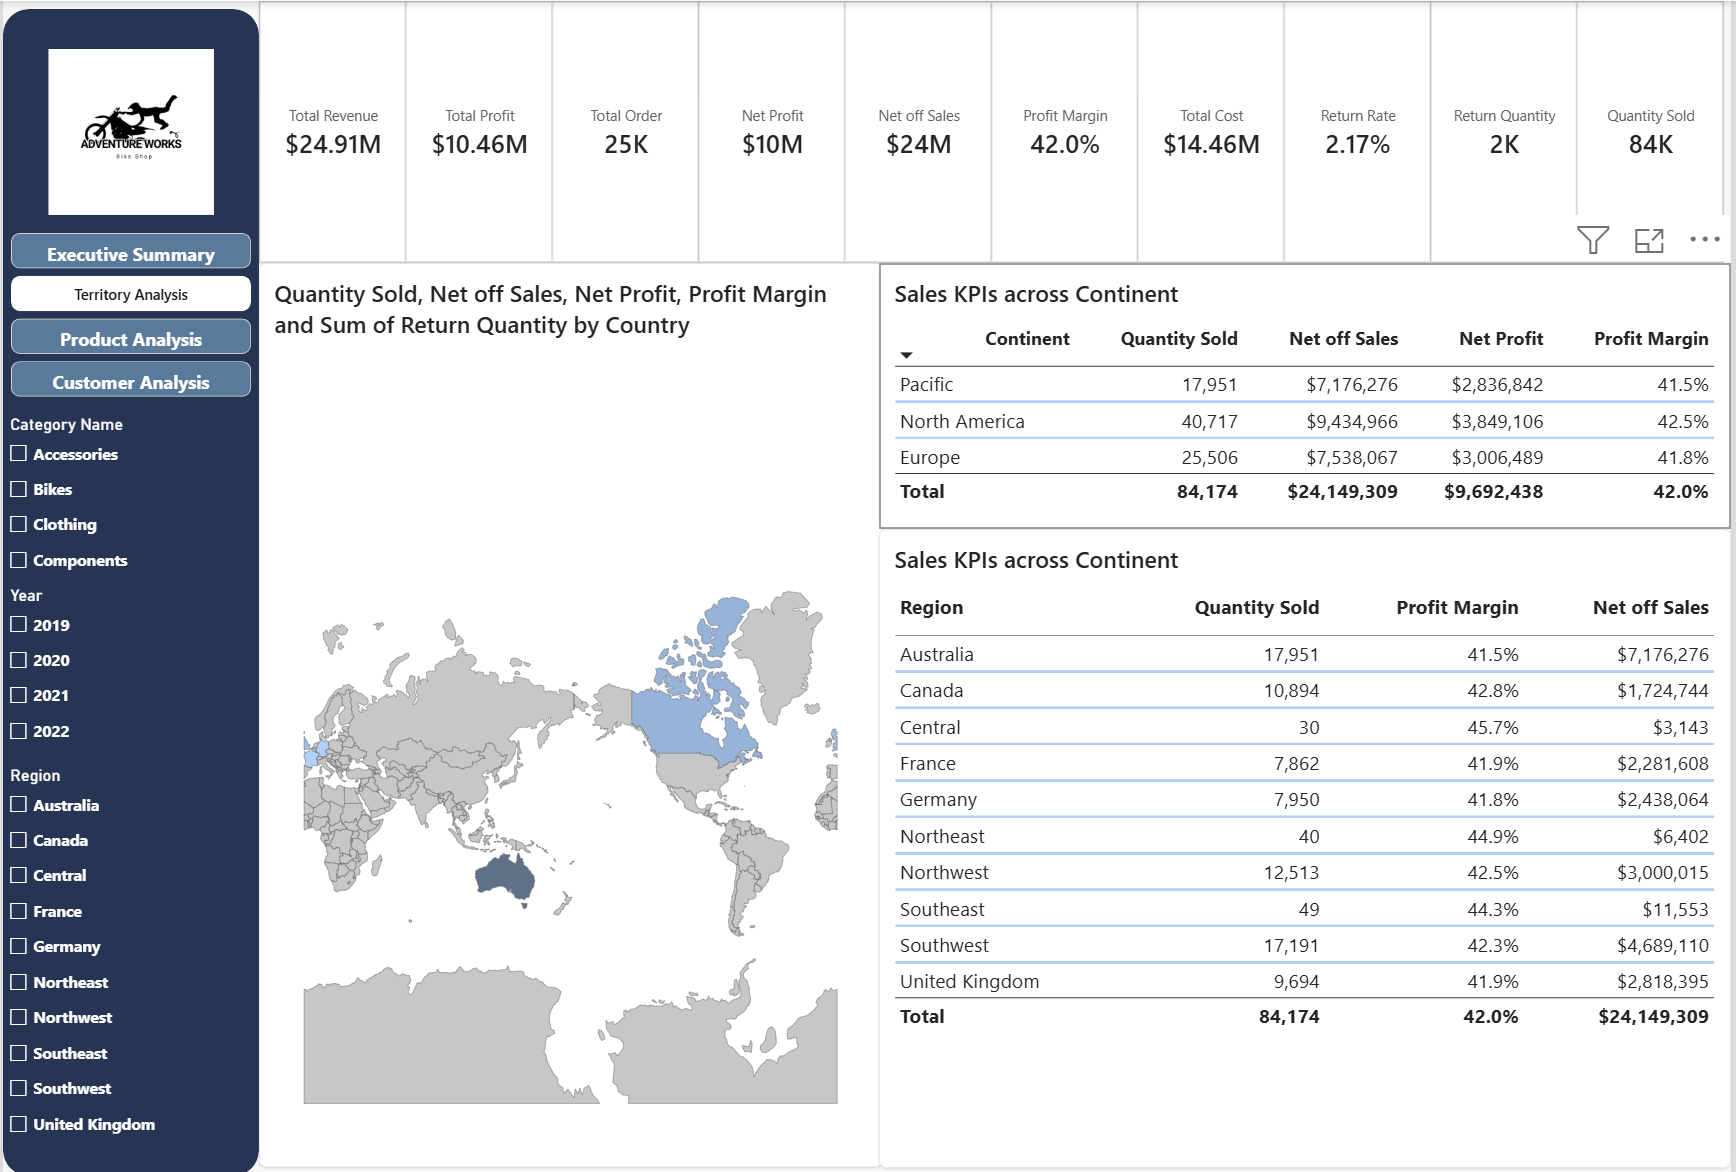

This screenshot's page, from the dashboard's own definition file:
{"tool":"powerbi","page":{"name":"Territory Analysis","canvas":[1900,1300],"ordinal":1},"visuals":[{"type":"shape","box":[0,8.8,281.6,1282.4],"z":0},{"type":"image","box":[0,52,281.9,182.3],"z":1000},{"type":"cardVisual","fields":{"Data":["_Measures.Total Revenue","_Measures.Total Profit","_Measures.Total Order","_Measures.Net Profit","_Measures.Net off Sales","_Measures.Profit Margin","_Measures.Total Cost","_Measures.Return Rate","_Measures.Return Quantity","_Measures.Quantity Sold"]},"box":[281.6,0,1619,288.2],"z":2000},{"type":"slicer","fields":{"Values":["DimDate.Year"]},"box":[0,642.2,251.1,195.8],"z":3000},{"type":"slicer","fields":{"Values":["DimTerritory.Region"]},"box":[0,839.4,250.8,444.3],"z":4000},{"type":"slicer","fields":{"Values":["DimProduct Categories.Category Name"]},"box":[0,454.6,251.1,195.8],"z":5000},{"type":"shapeMap","fields":{"Category":["DimTerritory.Country"],"Value":["_Measures.Quantity Sold"]},"box":[281.6,288.2,685.4,993.3],"z":6000},{"type":"tableEx","title":"Sales KPIs across Continent","fields":{"Values":["DimTerritory.Continent","_Measures.Quantity Sold","_Measures.Net off Sales","_Measures.Net Profit","_Measures.Profit Margin"]},"box":[963.5,288.2,937.1,292.6],"z":7000},{"type":"tableEx","title":"Sales KPIs across Continent","fields":{"Values":["DimTerritory.Region","_Measures.Quantity Sold","_Measures.Profit Margin","_Measures.Net off Sales"]},"box":[963.5,580.7,937.1,701.7],"z":8000},{"type":"pageNavigator","box":[9.6,254.9,264.6,180.4],"z":8001}]}

Visuals, with their boxes on the page's 1900x1300 design canvas (x1, y1, x2, y2). These are canvas units, not pixel positions in the 1736x1172 screenshot, which may show the page scaled, cropped or inside an application window:
shape: 0,9,282,1291
image: 0,52,282,234
cardVisual - _Measures.Total Revenue x _Measures.Total Profit: 282,0,1901,288
slicer - DimDate.Year: 0,642,251,838
slicer - DimTerritory.Region: 0,839,251,1284
slicer - DimProduct Categories.Category Name: 0,455,251,650
shapeMap - DimTerritory.Country x _Measures.Quantity Sold: 282,288,967,1282
"Sales KPIs across Continent" tableEx: 964,288,1901,581
"Sales KPIs across Continent" tableEx: 964,581,1901,1282
pageNavigator: 10,255,274,435
